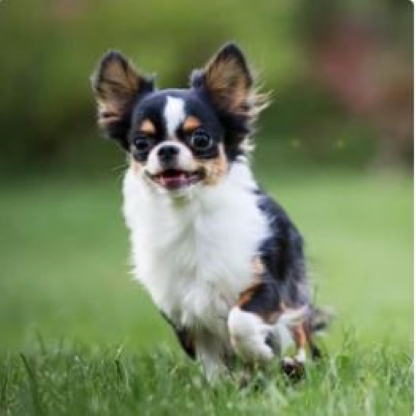chihuahua: (84, 42, 335, 380)
